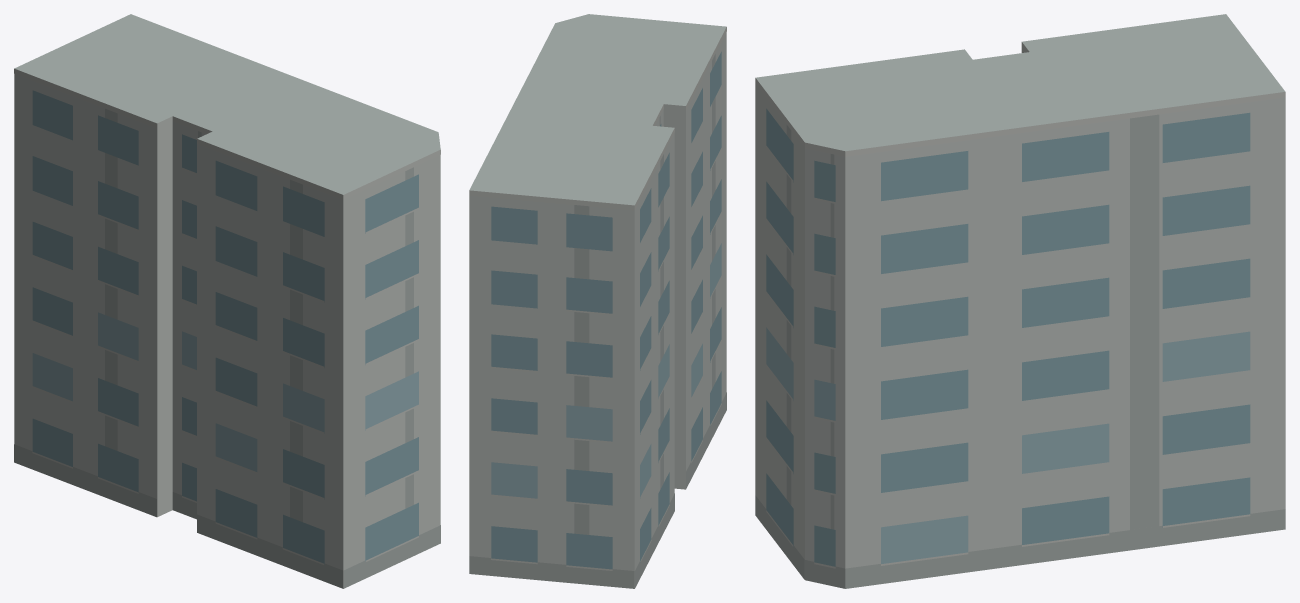
The model's file is survey-upis-33042996.glb.
3 views of the same model, side by side, from view 1: azimuth 30°, elevation 25°; view 2: azimuth 150°, elevation 25°; view 3: azimuth 270°, elevation 25° (orthographic). The views are drawn at different scales.
Parts seen in each view (by area): view 1: survey-upis-33042996.tmp; view 2: survey-upis-33042996.tmp; view 3: survey-upis-33042996.tmp.
Part boxes in pixels (left/top/right/bottom): survey-upis-33042996.tmp: left=14, top=14, right=440, bottom=588; survey-upis-33042996.tmp: left=469, top=14, right=726, bottom=588; survey-upis-33042996.tmp: left=755, top=14, right=1285, bottom=588.
Bounding box in the file's own units: 12.58 × 18.7 × 20.54.
